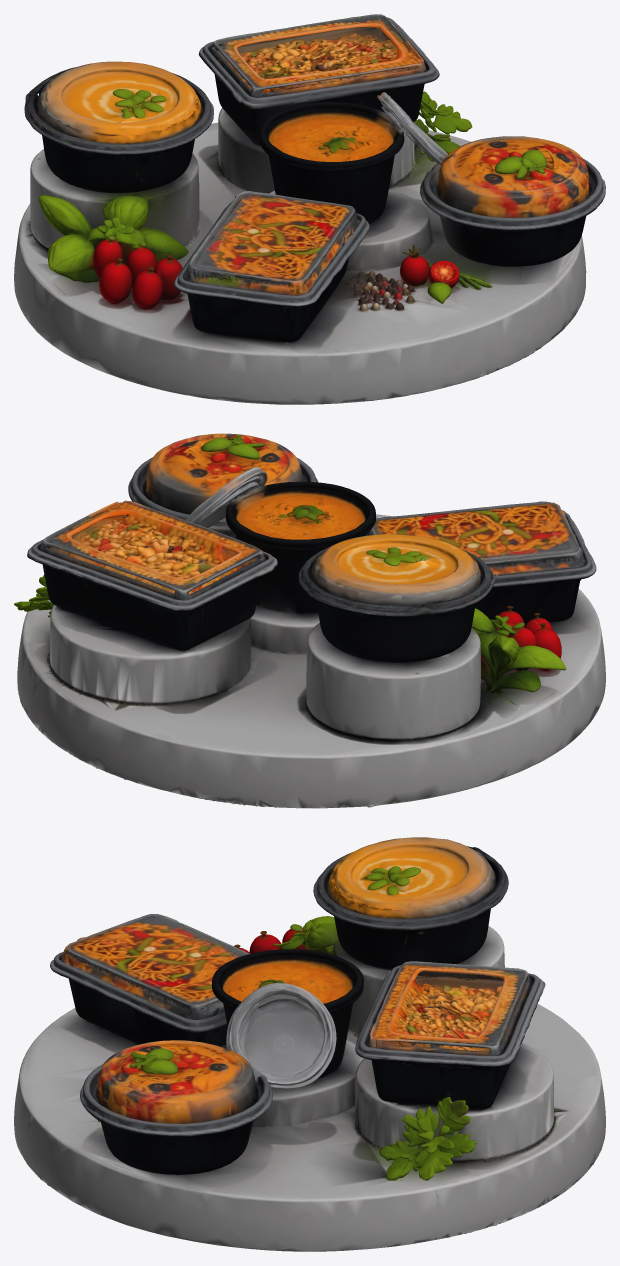
File: takeout-container.glb
The picture shows the model from 3 angles, top to bottom: view 1: azimuth 30°, elevation 25°; view 2: azimuth 150°, elevation 25°; view 3: azimuth 270°, elevation 25°; orthographic projection. The views are drawn at different scales.
Visible parts, largest first — view 1: geometry_0; view 2: geometry_0; view 3: geometry_0.
Boxes of the visible parts, box(x1,y1,x2,y2) form: geometry_0: box(14, 14, 605, 404); geometry_0: box(14, 433, 605, 808); geometry_0: box(14, 837, 605, 1251).
Size of the model in its own units: 0.9999 by 0.3681 by 0.9983.
Materials: 1 (1 with a texture image).
